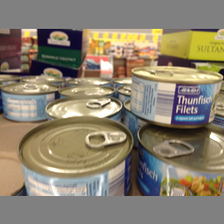fish: (17, 117, 133, 196), (137, 121, 224, 196), (130, 66, 222, 127), (1, 83, 58, 121)
